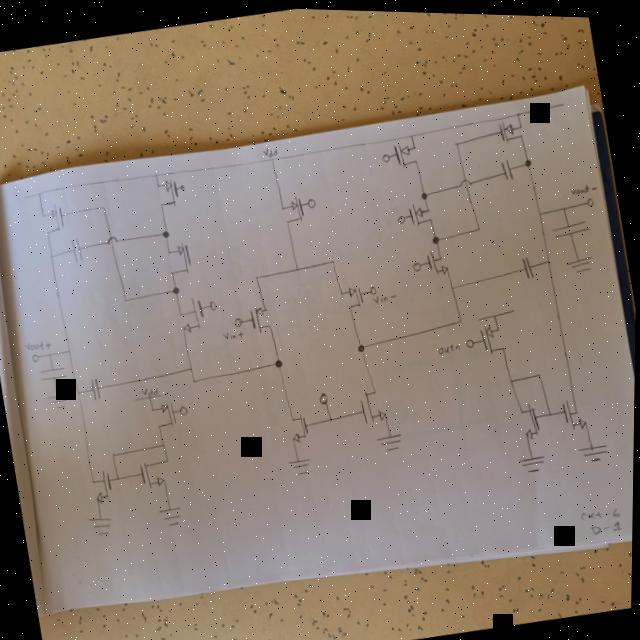capacitor: (550, 213, 592, 237), (39, 362, 71, 382), (68, 235, 86, 264), (499, 153, 517, 182), (519, 250, 536, 279), (87, 374, 104, 402)
crossover: (106, 232, 120, 246), (458, 174, 473, 185)
ground: (516, 447, 549, 473), (576, 438, 613, 461), (374, 427, 407, 452), (87, 512, 118, 538), (157, 502, 187, 528), (564, 249, 596, 272), (45, 389, 75, 411), (288, 453, 315, 477)
junction: (272, 354, 284, 367), (160, 227, 171, 239), (356, 339, 367, 351), (170, 283, 181, 294), (522, 154, 533, 165), (431, 232, 441, 241), (420, 188, 429, 198), (47, 250, 56, 260), (543, 254, 552, 263), (294, 262, 302, 272), (99, 202, 107, 211), (46, 350, 55, 358), (66, 346, 75, 354), (36, 189, 44, 198), (110, 450, 118, 458), (547, 406, 555, 414), (75, 388, 83, 396), (536, 206, 543, 214), (452, 137, 460, 144), (123, 294, 130, 302), (509, 373, 516, 381), (474, 222, 482, 229), (253, 271, 260, 279), (160, 439, 167, 447), (187, 363, 194, 371), (513, 106, 520, 114), (115, 474, 123, 481), (329, 255, 336, 262), (457, 314, 464, 321), (191, 376, 198, 383), (536, 368, 543, 375), (327, 413, 334, 420), (409, 130, 416, 137), (268, 154, 275, 161), (152, 171, 159, 178), (449, 282, 456, 289), (560, 201, 567, 208)
terminal: (479, 305, 518, 320), (133, 391, 163, 401), (380, 147, 392, 162), (412, 256, 425, 269), (179, 401, 190, 416), (318, 390, 330, 403), (305, 195, 317, 208), (206, 297, 217, 311), (465, 334, 477, 346), (233, 315, 245, 327), (584, 192, 595, 203), (369, 281, 380, 292), (30, 352, 41, 363), (396, 212, 407, 222), (178, 181, 188, 192), (21, 192, 30, 201), (558, 97, 566, 106)
text: (569, 177, 598, 193), (26, 338, 54, 353), (437, 337, 464, 352), (375, 287, 400, 302), (141, 383, 162, 397), (261, 142, 279, 158), (222, 327, 244, 340)
transistor: (352, 381, 395, 428), (510, 395, 547, 440), (160, 236, 198, 279), (173, 293, 210, 336), (135, 453, 175, 492), (558, 392, 594, 432), (35, 199, 70, 240), (84, 466, 119, 506), (476, 317, 509, 354), (243, 300, 277, 335), (148, 398, 181, 432), (154, 174, 185, 210), (283, 407, 314, 442), (336, 279, 369, 311), (276, 190, 308, 223), (390, 137, 422, 168), (404, 196, 436, 227), (494, 113, 527, 143), (423, 245, 453, 274)
